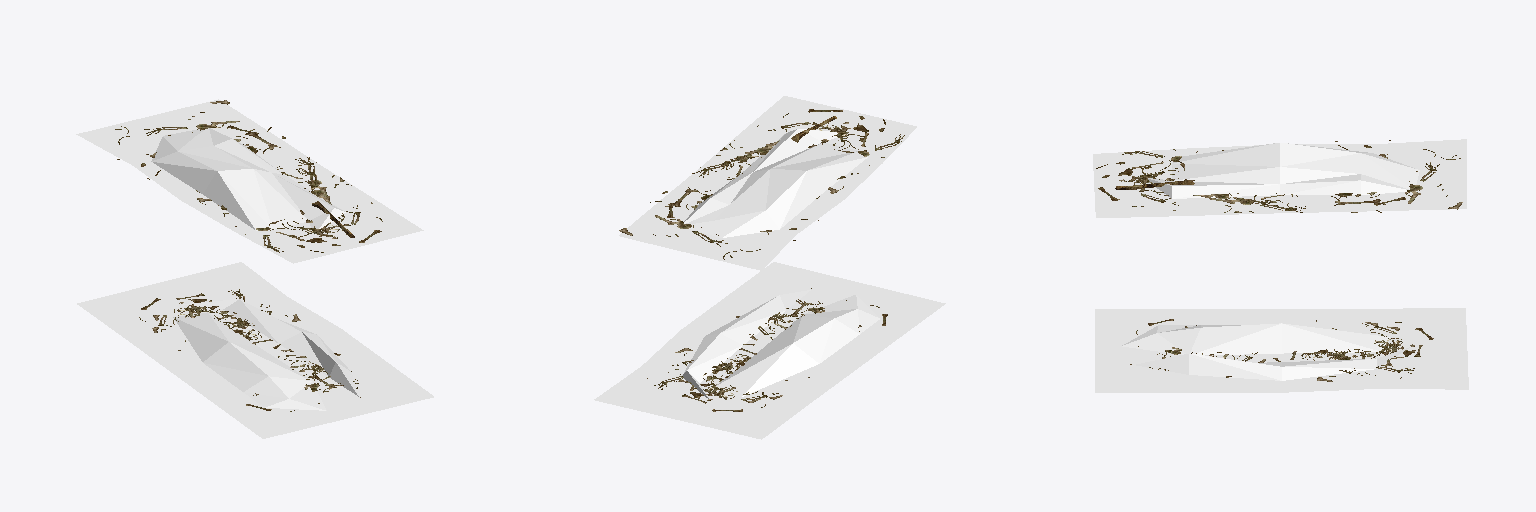
The picture shows the model from 3 angles: view 1: azimuth 30°, elevation 25°; view 2: azimuth 150°, elevation 25°; view 3: azimuth 270°, elevation 25°; orthographic projection.
Parts seen in each view (by area): view 1: mesh3, mesh0, mesh1; view 2: mesh3, mesh0, mesh1; view 3: mesh3, mesh0, mesh1.
Part boxes in pixels (bbox=[...]): mesh3: bbox=[76, 99, 433, 438]; mesh0: bbox=[149, 128, 358, 417]; mesh1: bbox=[115, 100, 382, 411]; mesh3: bbox=[594, 96, 945, 439]; mesh0: bbox=[682, 129, 891, 403]; mesh1: bbox=[619, 109, 904, 411]; mesh3: bbox=[1093, 139, 1468, 392]; mesh0: bbox=[1121, 143, 1419, 380]; mesh1: bbox=[1096, 140, 1462, 381].
Bounding box in the file's own units: 1.07 × 1.12 × 2.02.
Materials: 4 (2 with a texture image).